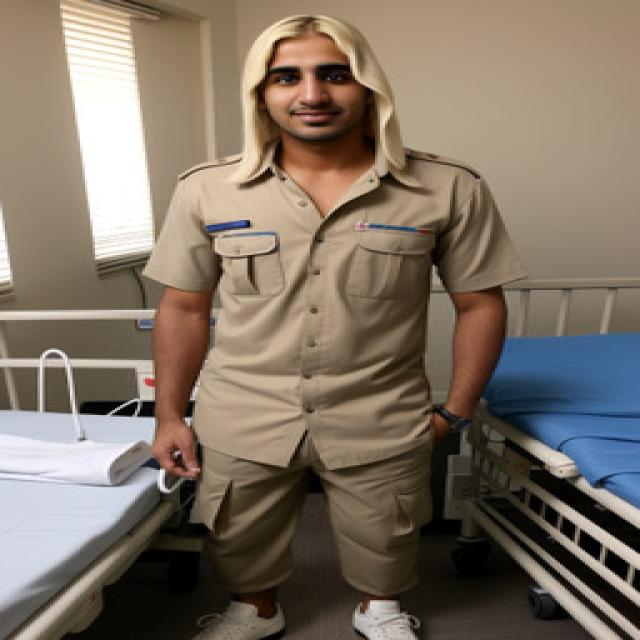Ai human 2: (125, 3, 520, 640)
